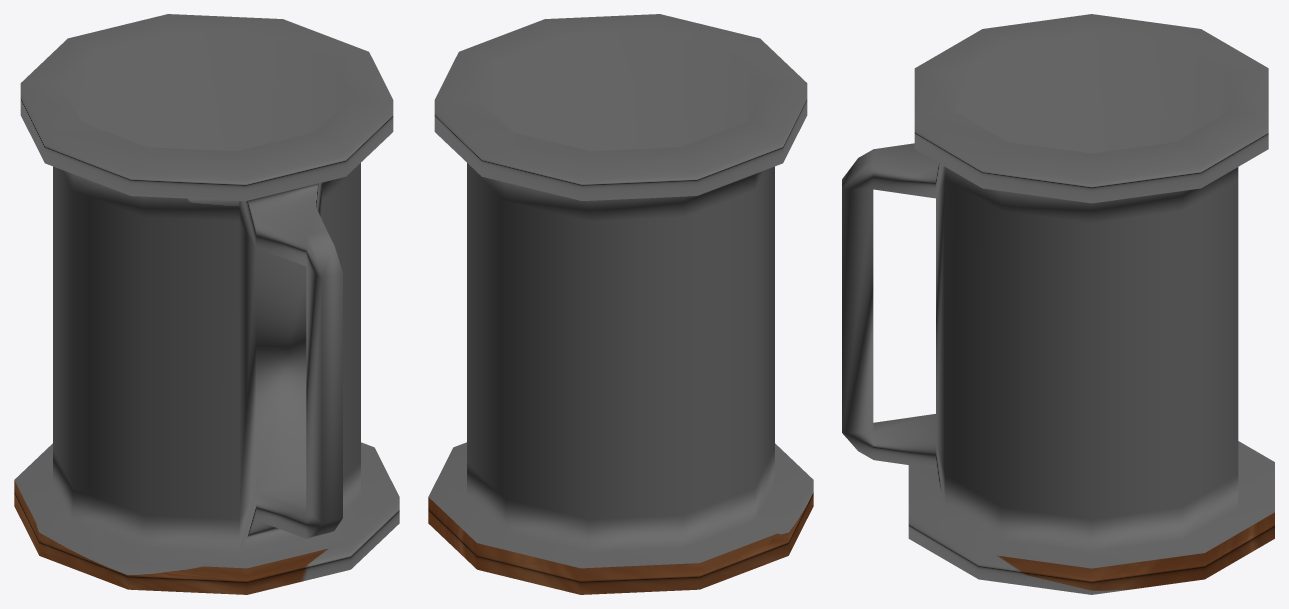
File: Caneca.fbx
3 renders of one model, left to right at view 1: azimuth 30°, elevation 25°; view 2: azimuth 150°, elevation 25°; view 3: azimuth 270°, elevation 25°, orthographic.
Parts seen in each view (by area): view 1: pCylinder51; view 2: pCylinder51; view 3: pCylinder51.
Boxes of the visible parts, bbox=[...] form: pCylinder51: bbox=[14, 14, 399, 594]; pCylinder51: bbox=[428, 14, 813, 594]; pCylinder51: bbox=[842, 14, 1274, 594].
Bounding box in the file's own units: 11.24 × 13.57 × 12.64.
